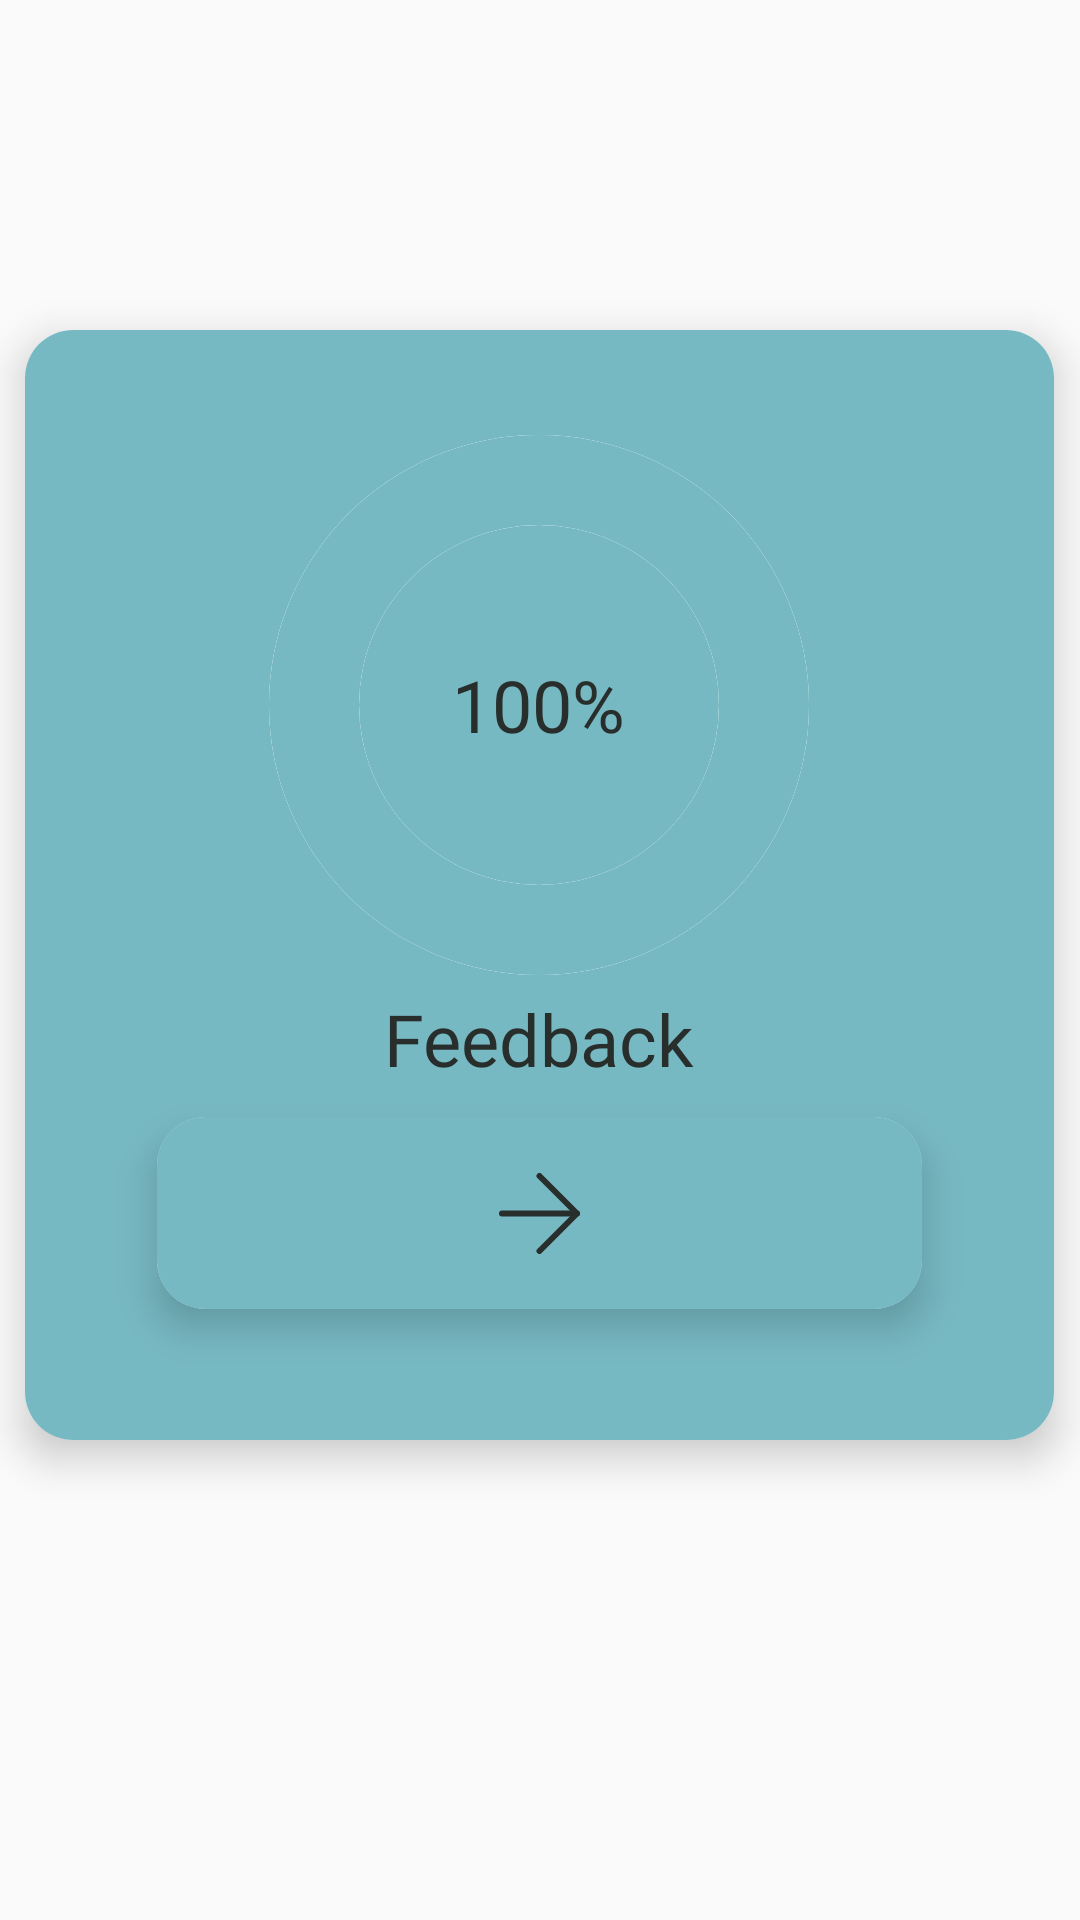

Screen size 1080w x 1920h. Icon name, then its box in pixels as (x1, y1, x2, y2):
send: (499, 1173, 580, 1254)
